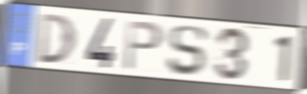1: (273, 34, 297, 83)
3: (213, 26, 250, 83)
4: (84, 17, 116, 71)
D: (37, 12, 78, 66)
P: (122, 19, 166, 73)
S: (166, 24, 210, 77)
